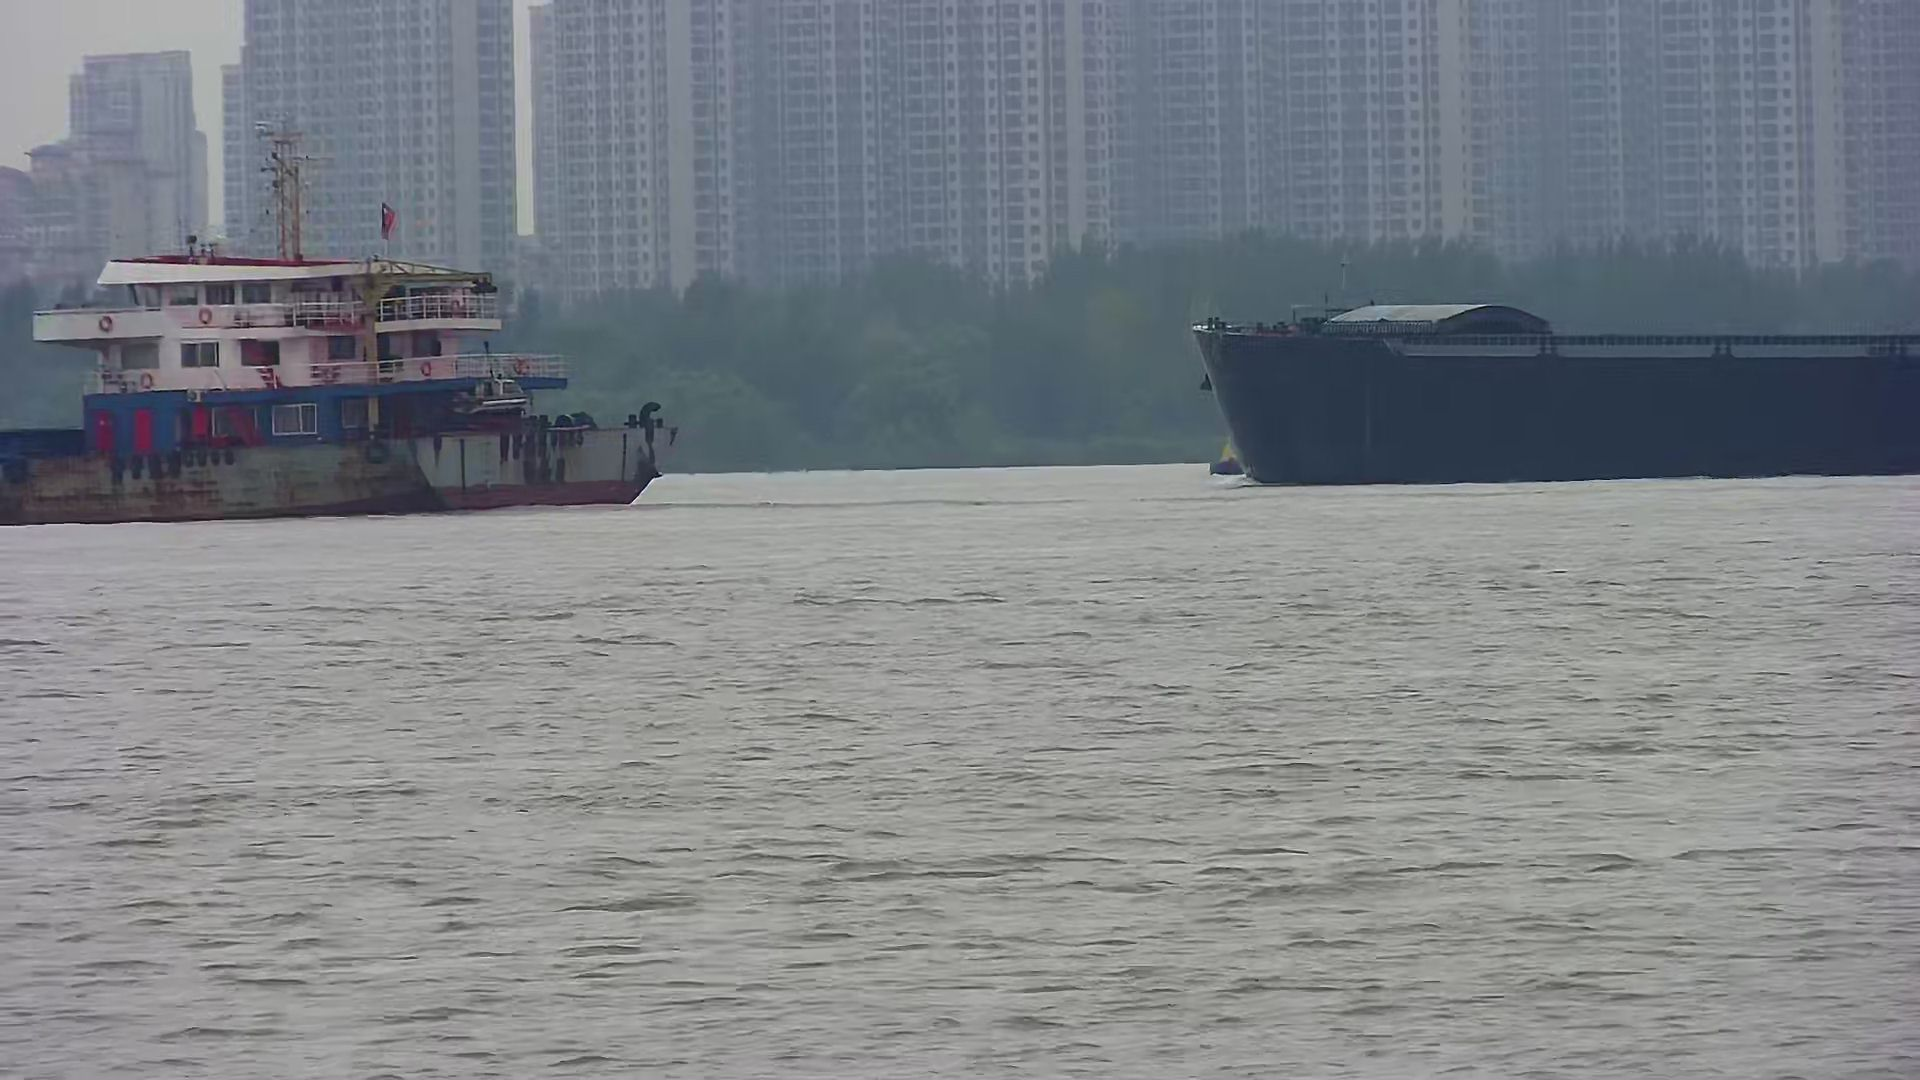ship: (1, 194, 676, 527), (1191, 297, 1920, 488)
